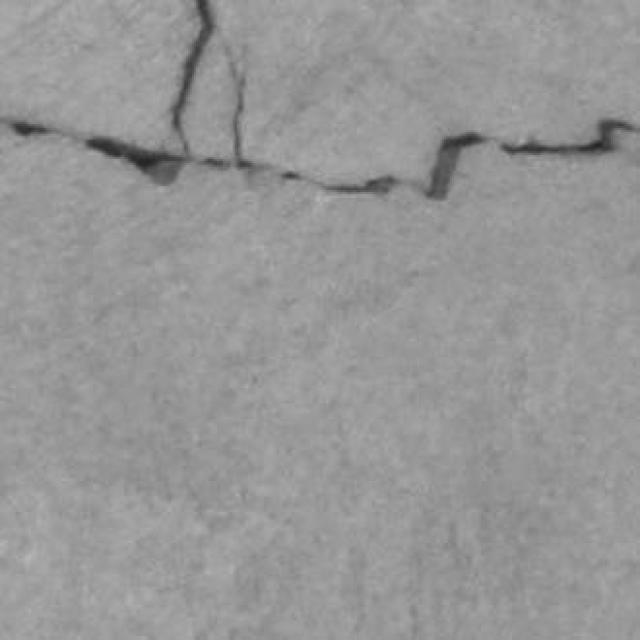crack: (0, 119, 639, 199), (171, 0, 215, 153), (501, 119, 638, 155), (86, 138, 186, 184), (425, 132, 486, 199), (224, 39, 250, 168)
